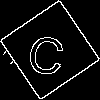C: (25, 25, 69, 77)
